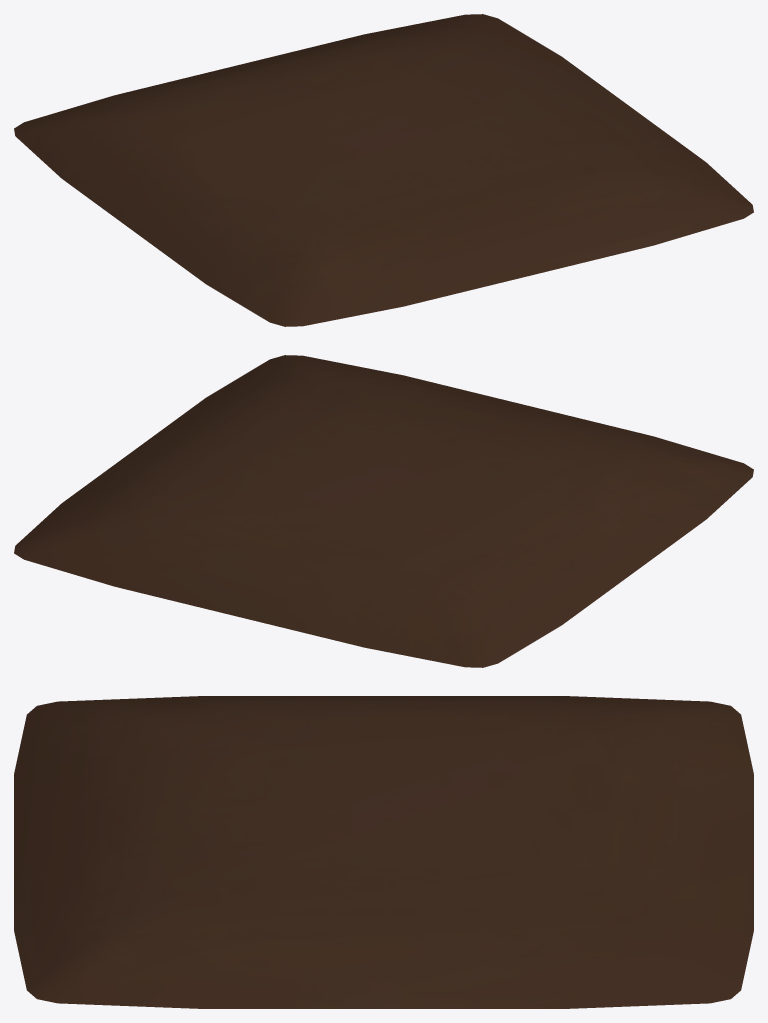
The model's file is 田地湿润.fbx.
The picture shows the model from 3 angles, top to bottom: view 1: azimuth 30°, elevation 25°; view 2: azimuth 150°, elevation 25°; view 3: azimuth 270°, elevation 25°; orthographic projection. The views are drawn at different scales.
Parts seen in each view (by area): view 1: 土地湿润; view 2: 土地湿润; view 3: 土地湿润.
Boxes of the visible parts, x1,y1,x2,y2 form: 土地湿润: [14, 14, 753, 326]; 土地湿润: [14, 355, 753, 667]; 土地湿润: [14, 696, 753, 1008].
Size of the model in its own units: 100 by 6.51 by 100.
Materials: 1 (1 with a texture image).
